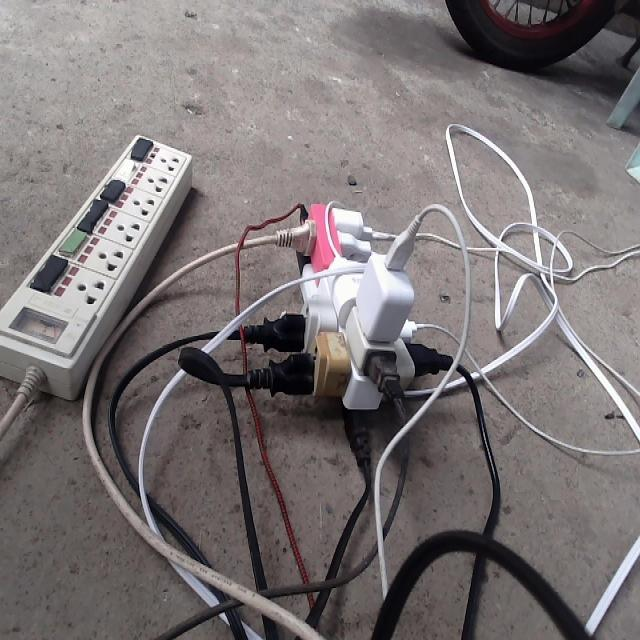-: (256, 197, 458, 459)
